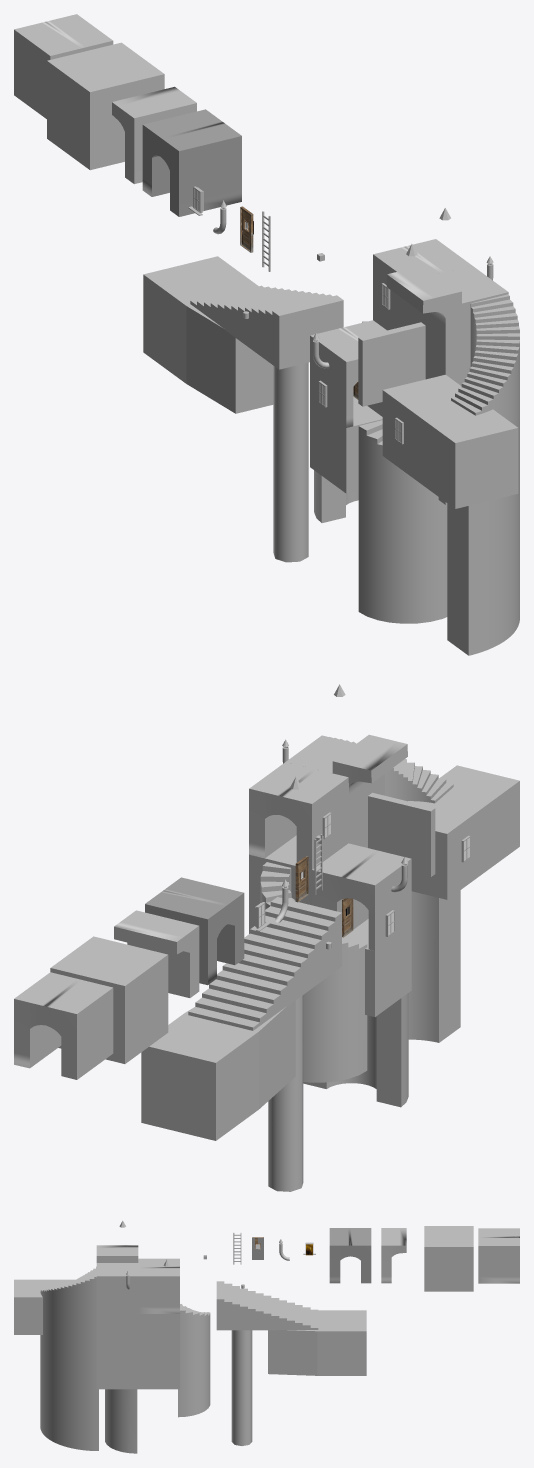
File: Game scene unity 3d.fbx
The picture shows the model from 3 angles, top to bottom: view 1: azimuth 30°, elevation 25°; view 2: azimuth 150°, elevation 25°; view 3: azimuth 270°, elevation 25°; orthographic projection. The views are drawn at different scales.
Visible parts, largest first — view 1: Stairs__2_, Stairs__1_1, pCube1, pCube11, Cube__3_1, Stairs, Cylinder__1_, pCube2, pCube3, Cube__3_8, Cube__3_6, Cube__8_ (+7 smaller); view 2: pCube2, Stairs, Stairs__2_, Cube__3_8, Stairs__1_, Cube__3_4, pCube1, Cube__3_5, Cube__3_1, pCube10, Cylinder__1_, pCube11 (+8 smaller); view 3: Stairs__2_, Stairs, Stairs__1_, pCube1, pCube2, Cylinder__1_, Cube__3_8, Cube__3_4, pCube3, pCube14, Stairs__1_1, Cube__3_1 (+7 smaller).
Part boxes in pixels (x1,y1,x2,y2): Stairs__2_: (447, 294, 519, 655); Stairs__1_1: (358, 420, 447, 623); pCube1: (47, 42, 164, 170); pCube11: (419, 406, 518, 508); Cube__3_1: (142, 109, 241, 216); Stairs: (190, 285, 343, 369); Cylinder__1_: (273, 362, 308, 562); pCube2: (143, 256, 258, 383); pCube3: (186, 305, 273, 413); Cube__3_8: (14, 14, 113, 118); Cube__3_6: (386, 265, 461, 360); Cube__8_: (358, 322, 425, 406); pCube2: (141, 1013, 258, 1140); Stairs: (188, 897, 341, 1030); Stairs__2_: (329, 737, 460, 1042); Cube__3_8: (14, 972, 113, 1079); Stairs__1_: (260, 862, 367, 1082); Cube__3_4: (249, 762, 348, 869); pCube1: (50, 936, 168, 1063); Cube__3_5: (312, 843, 411, 950); Cube__3_1: (145, 877, 244, 985); pCube10: (408, 797, 483, 899); Cylinder__1_: (268, 995, 303, 1191); pCube11: (439, 765, 519, 872); Stairs__2_: (40, 1266, 98, 1450); Stairs: (216, 1281, 318, 1330); Stairs__1_: (178, 1304, 210, 1417); pCube1: (424, 1226, 473, 1291); pCube2: (317, 1310, 366, 1375); Cylinder__1_: (231, 1330, 252, 1445); Cube__3_8: (478, 1228, 519, 1283); Cube__3_4: (138, 1258, 179, 1313); pCube3: (268, 1330, 317, 1375); pCube14: (96, 1263, 138, 1313); Stairs__1_1: (105, 1389, 137, 1453); Cube__3_1: (329, 1228, 371, 1283).
Size of the model in its own units: 2965 by 7659 by 14912.
